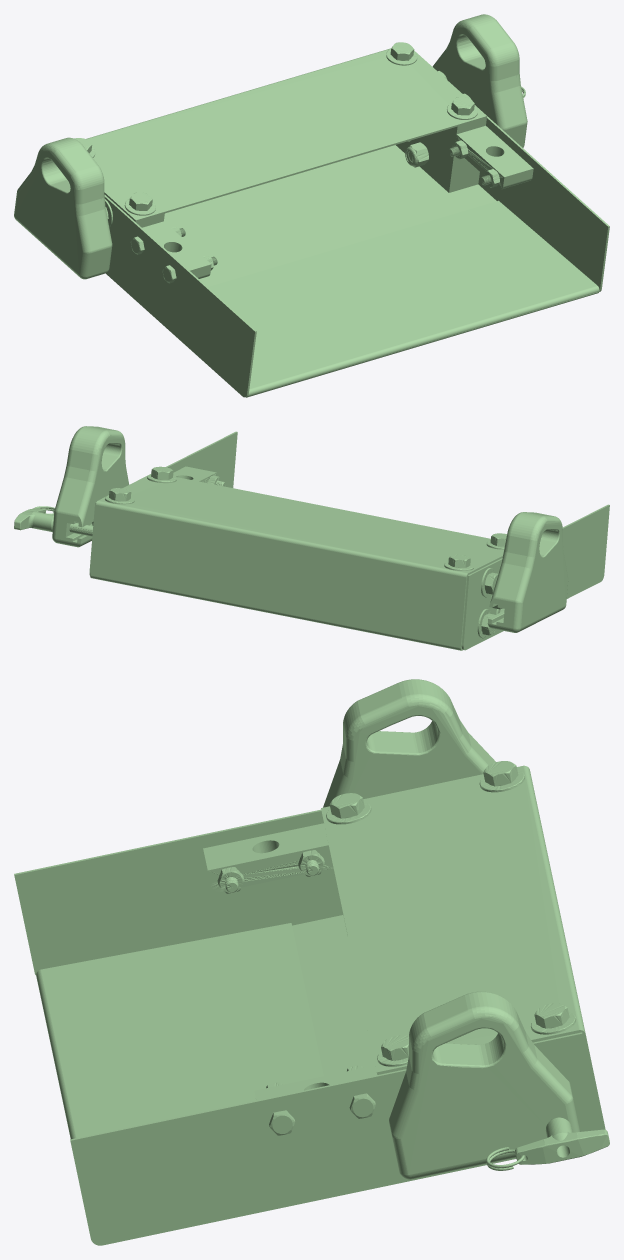
The model's file is assistive_dozer_opt.glb.
3 renders of one model, top to bottom at view 1: azimuth 30°, elevation 25°; view 2: azimuth 150°, elevation 25°; view 3: azimuth 270°, elevation 25°, orthographic. The views are drawn at different scales.
Visible parts, largest first — view 1: assistive_dozer; view 2: assistive_dozer; view 3: assistive_dozer.
Boxes of the visible parts, left/top/right/bottom form: assistive_dozer: left=14, top=14, right=609, bottom=397; assistive_dozer: left=14, top=426, right=609, bottom=650; assistive_dozer: left=14, top=679, right=609, bottom=1245.
Bounding box in the file's own units: 3.58 × 1.17 × 2.47.
